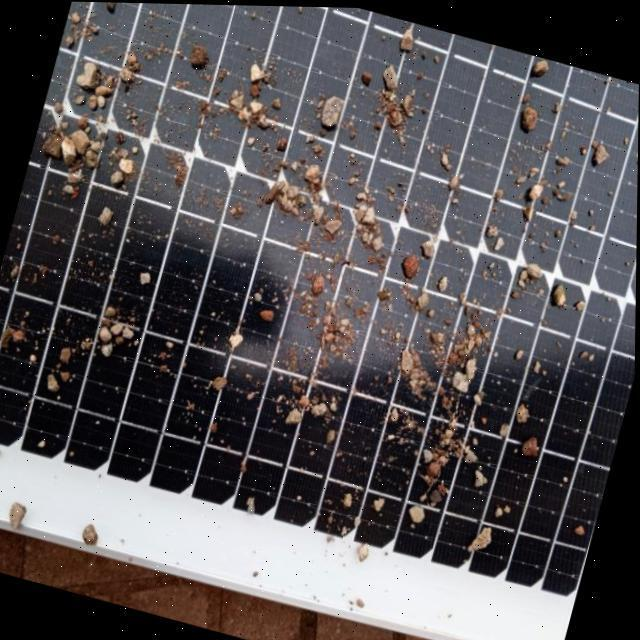Anomaly Solar Panel: (0, 0, 640, 626)
Surface Contaminant: (0, 1, 639, 625)
